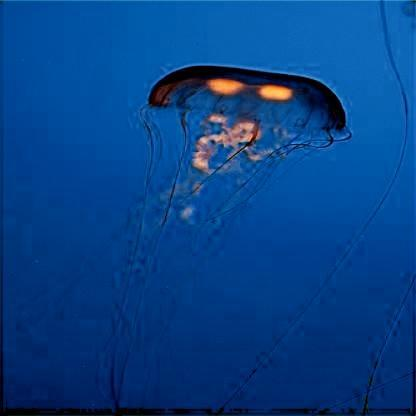Dressed: (134, 66, 350, 276)
